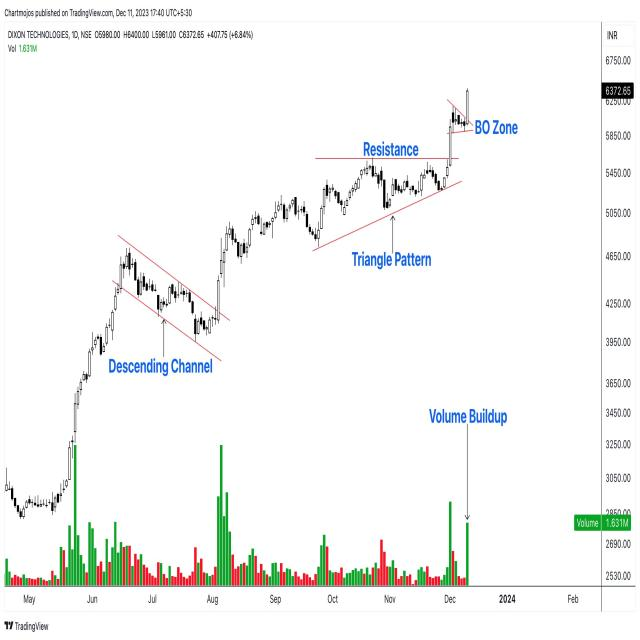Ascending-Triangle: (292, 160, 498, 259)
